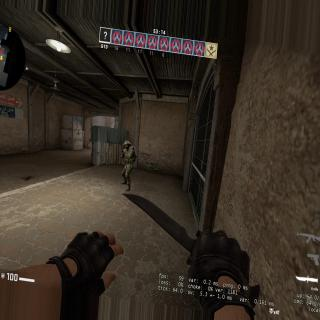CT-Body: (118, 137, 135, 192)
CT-Head: (124, 140, 131, 150)
